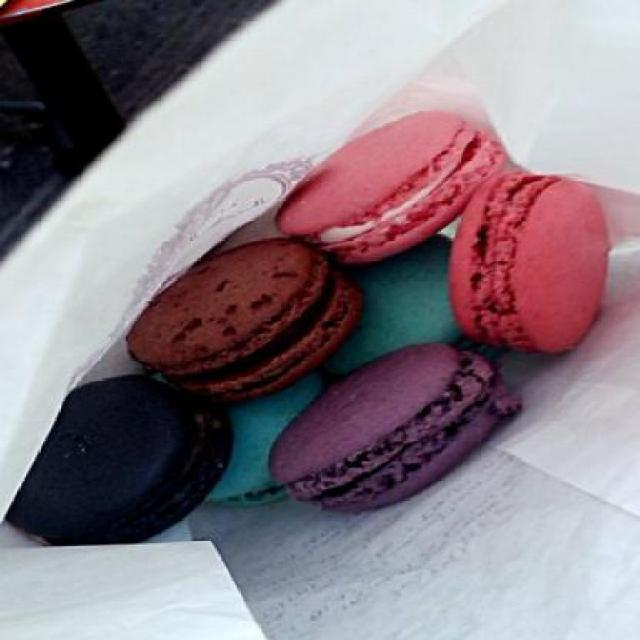Macaron: (8, 102, 614, 560)
